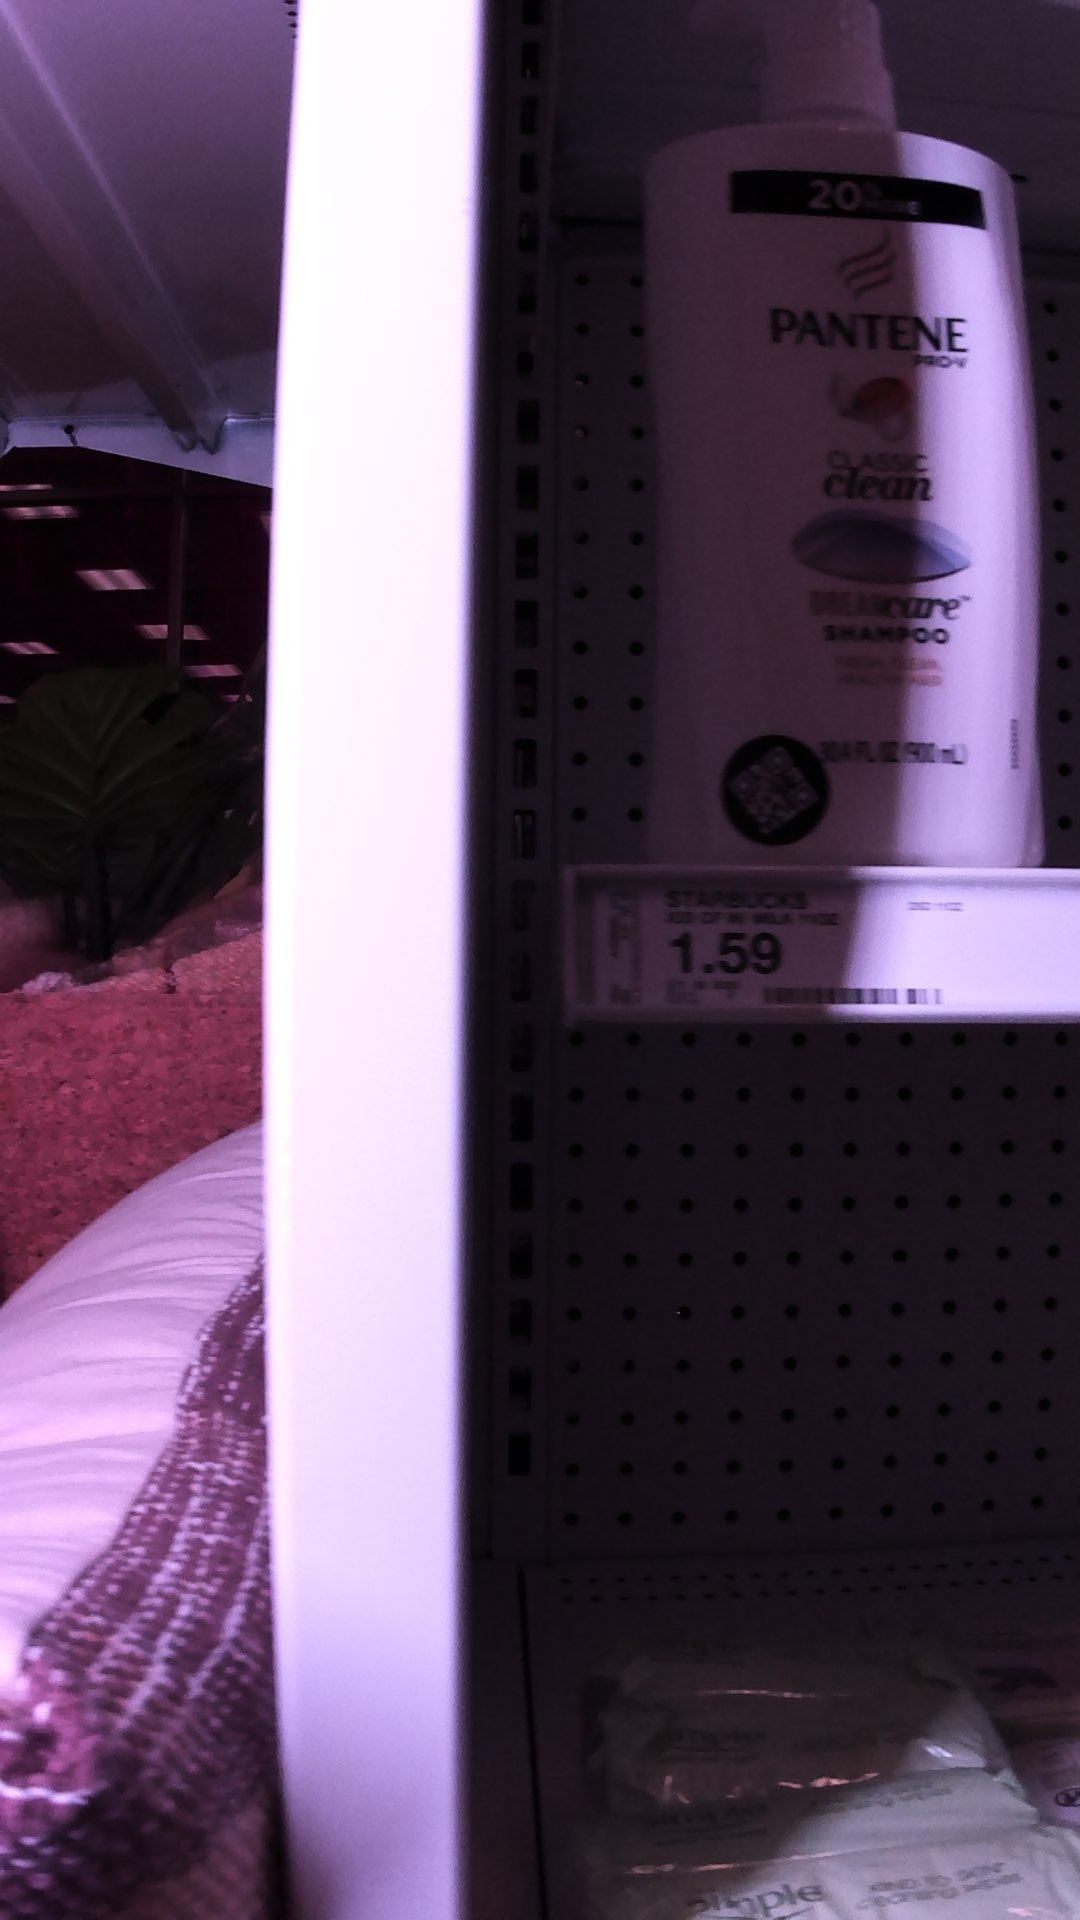ptag: (564, 864, 984, 1026)
